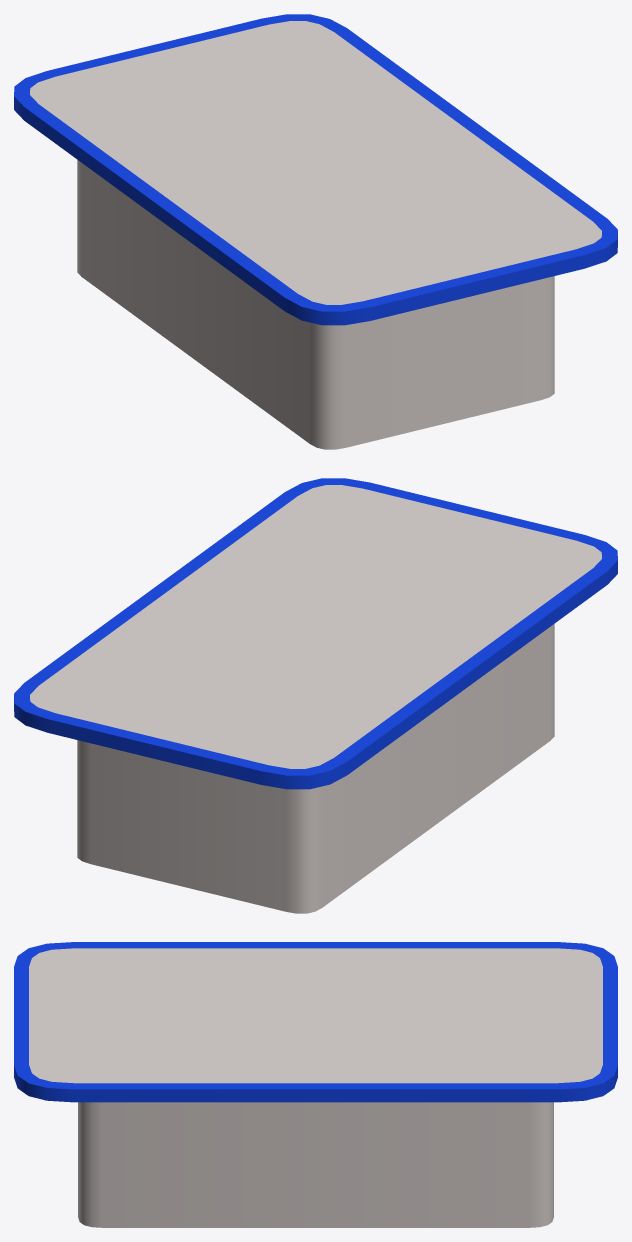
Rendered from ban 4_06.FBX.
3 views of the same model, one above another, from view 1: azimuth 30°, elevation 25°; view 2: azimuth 150°, elevation 25°; view 3: azimuth 270°, elevation 25° (orthographic). The views are drawn at different scales.
Visible parts, largest first — view 1: Box1243; view 2: Box1243; view 3: Box1243.
Boxes of the visible parts, x1,y1,x2,y2 form: Box1243: [14, 14, 617, 449]; Box1243: [14, 478, 617, 913]; Box1243: [14, 942, 617, 1227].
Bounding box in the file's own units: 2.75 × 1.37 × 4.77.
